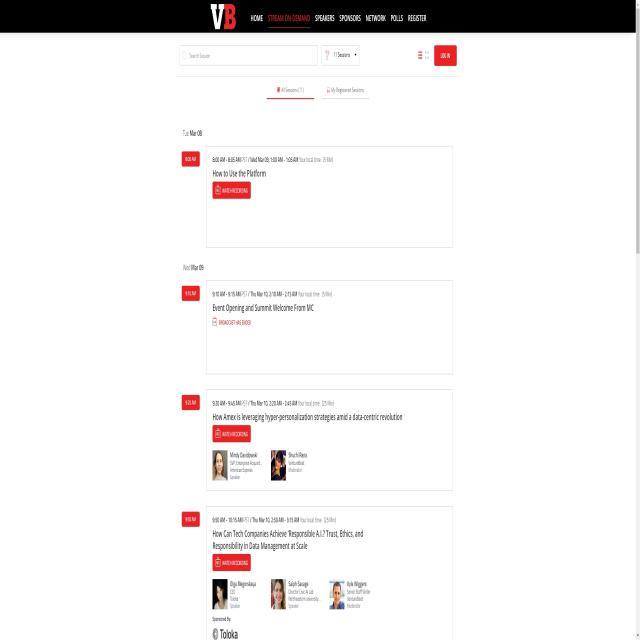menu-bar: (248, 9, 434, 24)
search: (175, 42, 318, 71)
tab-bar: (258, 84, 374, 111)
